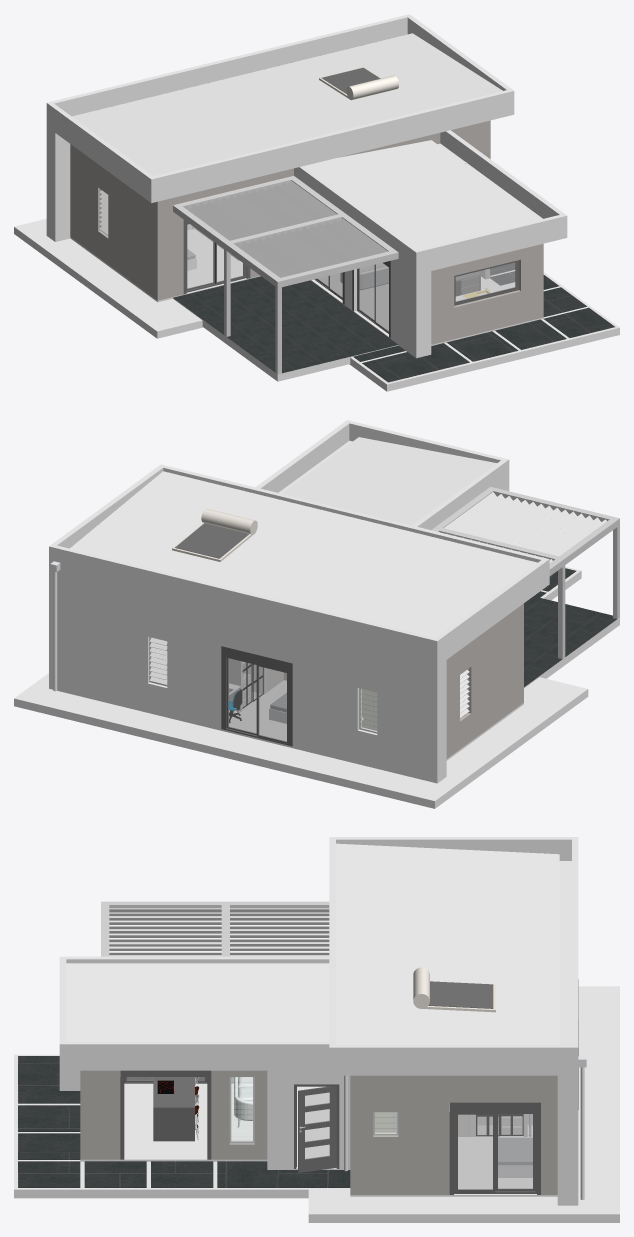
Rendered from MODERNHOME58.glb.
3 renders of one model, top to bottom at view 1: azimuth 30°, elevation 25°; view 2: azimuth 150°, elevation 25°; view 3: azimuth 270°, elevation 25°, orthographic. The views are drawn at different scales.
Parts seen in each view (by area): view 1: Material7.001, Material1, Material2.001, Material9.002, Material51, Material5, Material4, Material13, Material6, Material12.001, Material15, Material14.001 (+1 smaller); view 2: Material1, Material7.001, Material5, Material9.002, Material2.001, Material51, Material13, Material12.001, Material15, Material9, Material6, Material14 (+2 smaller); view 3: Material7.001, Material1, Material2.001, Material5, Material4, Material9.002, Material6, Material12.001, Material13, Material9, Material41.001, Material3 (+6 smaller).
Part boxes in pixels (x1,y1,x2,y2): Material7.001: [72, 33, 539, 249]; Material1: [46, 14, 567, 381]; Material2.001: [70, 120, 543, 344]; Material9.002: [173, 176, 398, 374]; Material51: [173, 276, 398, 373]; Material5: [14, 218, 619, 391]; Material4: [353, 262, 614, 382]; Material13: [187, 224, 515, 331]; Material6: [186, 229, 499, 336]; Material12.001: [183, 67, 519, 337]; Material15: [187, 67, 398, 229]; Material14.001: [340, 266, 388, 290]; Material1: [49, 420, 619, 783]; Material7.001: [70, 437, 537, 637]; Material5: [14, 566, 588, 808]; Material9.002: [431, 487, 619, 658]; Material2.001: [446, 603, 523, 758]; Material51: [524, 596, 616, 687]; Material13: [228, 658, 286, 741]; Material12.001: [175, 523, 292, 746]; Material15: [172, 508, 373, 729]; Material9: [150, 491, 617, 733]; Material6: [152, 654, 286, 741]; Material14: [50, 561, 286, 723]; Material7.001: [66, 843, 559, 1044]; Material1: [59, 837, 578, 1205]; Material2.001: [80, 1070, 557, 1194]; Material5: [14, 986, 619, 1222]; Material4: [18, 1056, 350, 1187]; Material9.002: [101, 901, 329, 956]; Material6: [124, 1083, 536, 1194]; Material12.001: [120, 979, 578, 1194]; Material13: [126, 1077, 532, 1189]; Material9: [109, 905, 398, 1143]; Material41.001: [294, 1084, 339, 1172]; Material3: [153, 1077, 194, 1141].
Bounding box in the file's own units: 13 × 4.62 × 14.6.
Materials: 49 (2 with a texture image).
